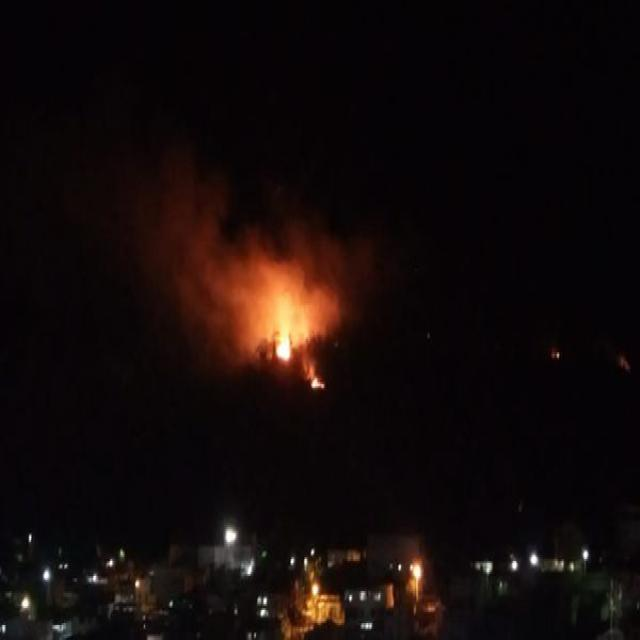Fire: (274, 316, 297, 364)
Smoke: (153, 229, 231, 329)
